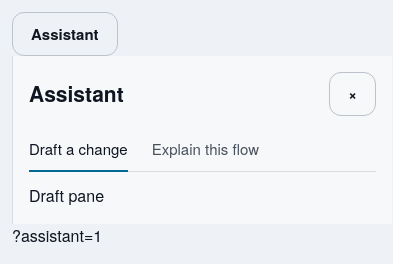
Test case: the assistant dock › switches tabs through the URL and keeps the draft pane mounted behind the explanation
What coordinates should you click on to do the following:
click the link "Explain this flow"
I would click on:
 (205, 148)
Its box is x1=152 y1=138 x2=259 y2=159.
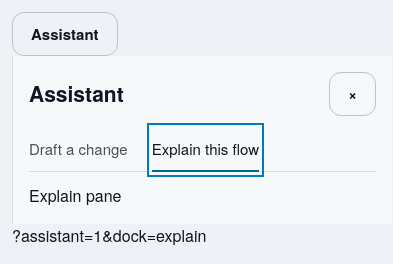
Result: the text with test id "search" shows "assistant=1&dock=explain" at x1=12 y1=224 x2=206 y2=247
Result: the text "Explain pane" is shown at x1=29 y1=184 x2=122 y2=207
Result: the text "Draft pane" is gone
